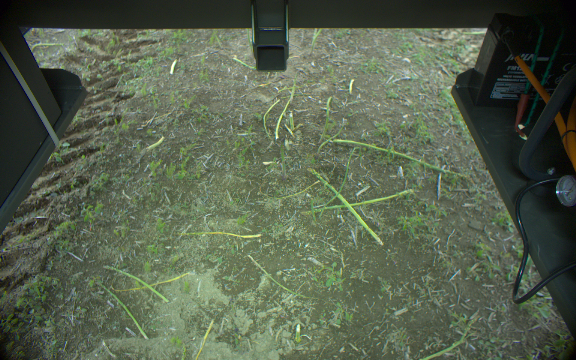aspa: (306, 165, 383, 247), (328, 137, 461, 177), (303, 187, 414, 216), (314, 94, 334, 143), (277, 136, 290, 184)
